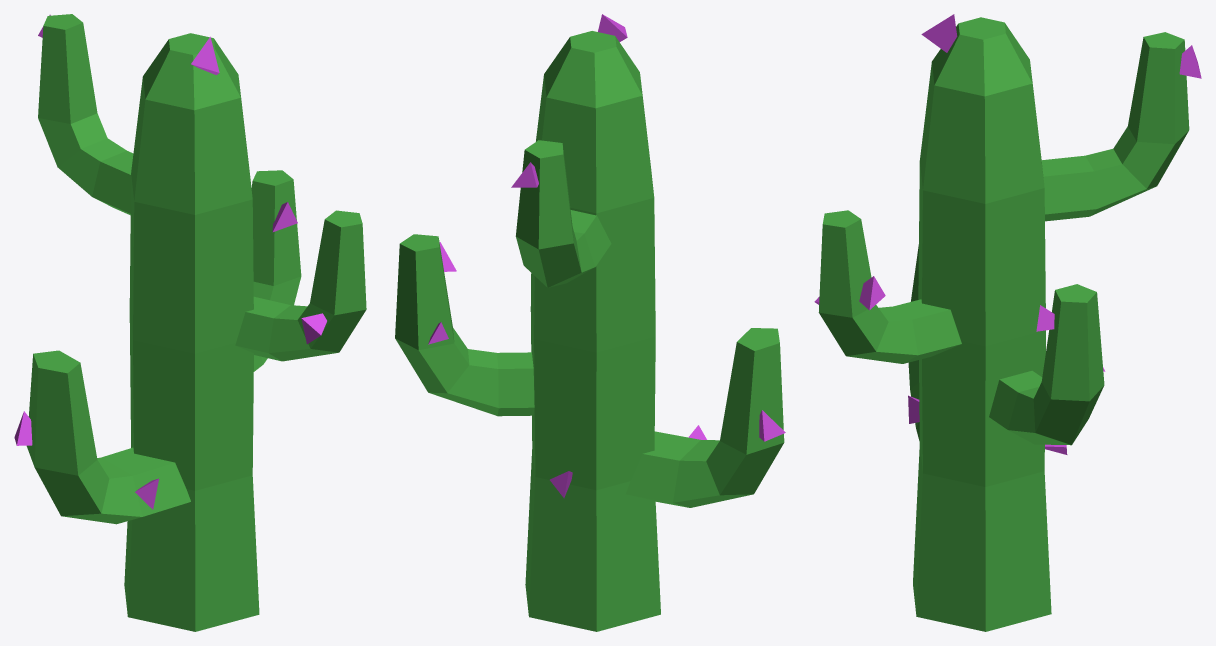
The model's file is Cactus_8.fbx.
3 views of the same model, side by side, from view 1: azimuth 30°, elevation 25°; view 2: azimuth 150°, elevation 25°; view 3: azimuth 270°, elevation 25° (orthographic). The views are drawn at different scales.
Visible parts, largest first — view 1: Cactus, Arm, Arm.001, Arm.002, Arm.003, Flower.005, Flower.007; view 2: Cactus, Arm, Arm.003, Arm.001; view 3: Cactus, Arm.001, Arm.003, Arm.002, Flower.005, Arm, Flower.001.
Boxes of the visible parts, x1,y1,x2,y2 form: Cactus: (124,33,259,631); Arm: (26,350,190,524); Arm.001: (38,14,133,215); Arm.002: (235,210,366,361); Arm.003: (251,170,301,371); Flower.005: (191,36,219,75); Flower.007: (301,313,326,344); Cactus: (525,31,660,631); Arm: (626,328,784,507); Arm.003: (395,234,534,416); Arm.001: (515,140,611,287); Cactus: (913,17,1051,631); Arm.001: (1041,32,1189,221); Arm.003: (989,284,1104,445); Arm.002: (818,210,961,363); Flower.005: (921,14,957,52); Arm: (908,244,919,440); Flower.001: (859,276,885,310).
Bounding box in the file's own units: 75.64 × 126 × 75.21.
